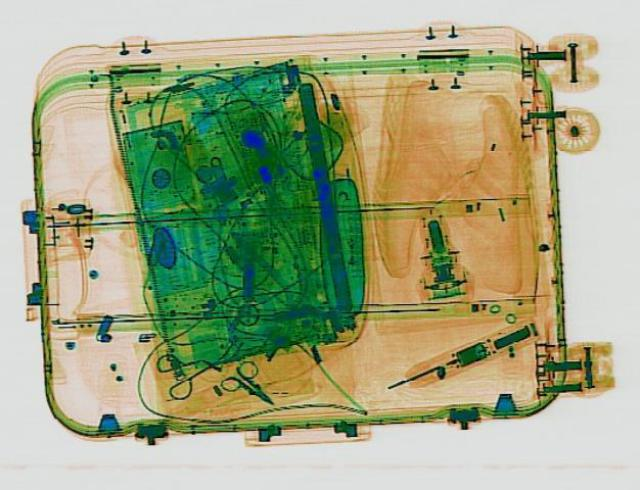Scissors: (211, 357, 293, 414)
